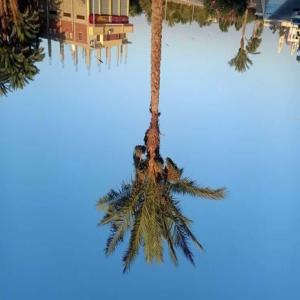palm tree: (94, 0, 228, 274)
